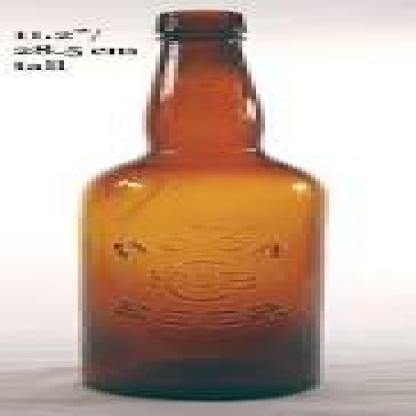trash: (82, 10, 322, 399)
